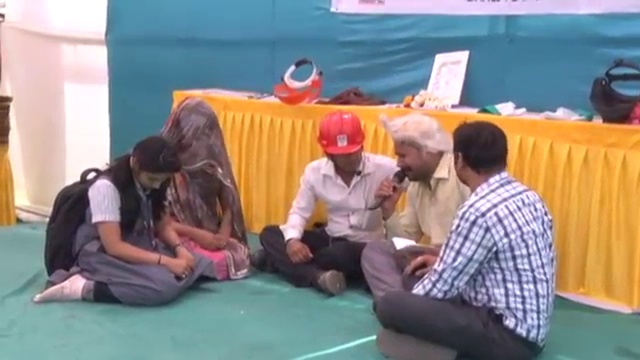helmet: (310, 114, 365, 160)
helmet_off: (446, 120, 514, 199), (387, 117, 448, 185), (164, 99, 221, 170), (124, 136, 182, 198)
helmet_on: (313, 115, 367, 180)
person: (366, 111, 562, 358), (36, 136, 200, 305), (252, 107, 400, 293), (145, 88, 251, 279), (360, 117, 469, 295)
